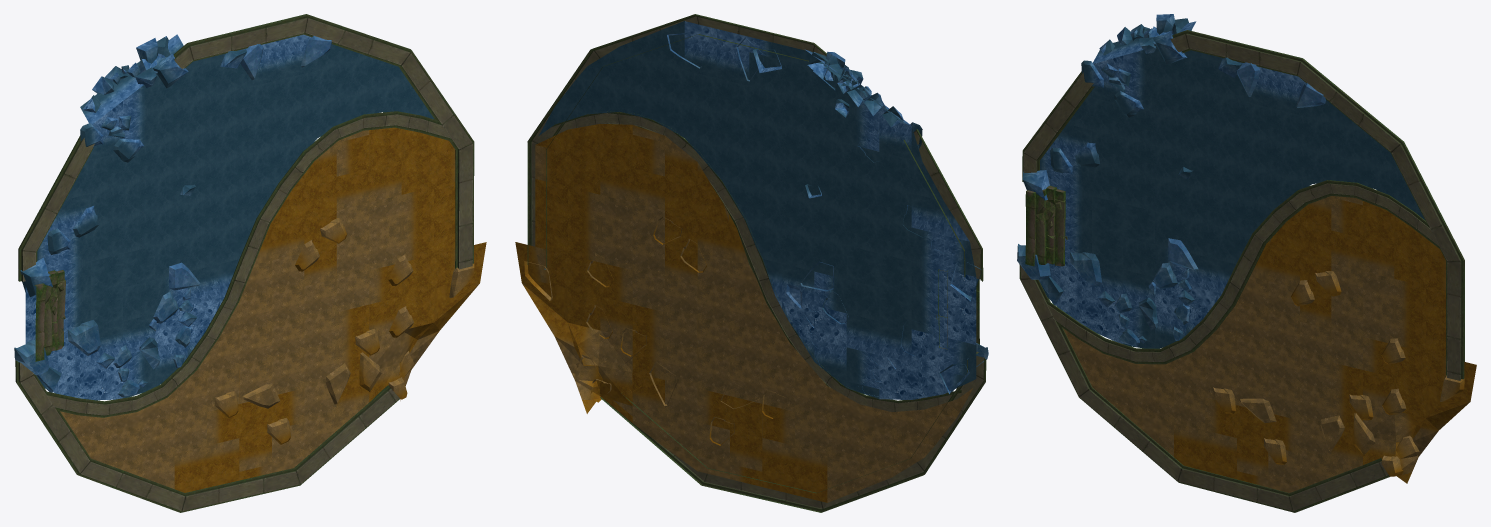
File: huodong_fuben_583_yinyangtan.obj
The picture shows the model from 3 angles, left to right: view 1: azimuth 30°, elevation 25°; view 2: azimuth 150°, elevation 25°; view 3: azimuth 330°, elevation 25°; orthographic projection. The views are drawn at different scales.
Parts seen in each view (by area): view 1: huodong_fuben_583_yinyangtan; view 2: huodong_fuben_583_yinyangtan; view 3: huodong_fuben_583_yinyangtan.
Part boxes in pixels (x1,y1,x2,y2): huodong_fuben_583_yinyangtan: (14,14,486,512); huodong_fuben_583_yinyangtan: (515,14,988,512); huodong_fuben_583_yinyangtan: (1017,14,1476,512).
Size of the model in its own units: 3885 by 3720 by 298.
4 materials, 4 textured.
